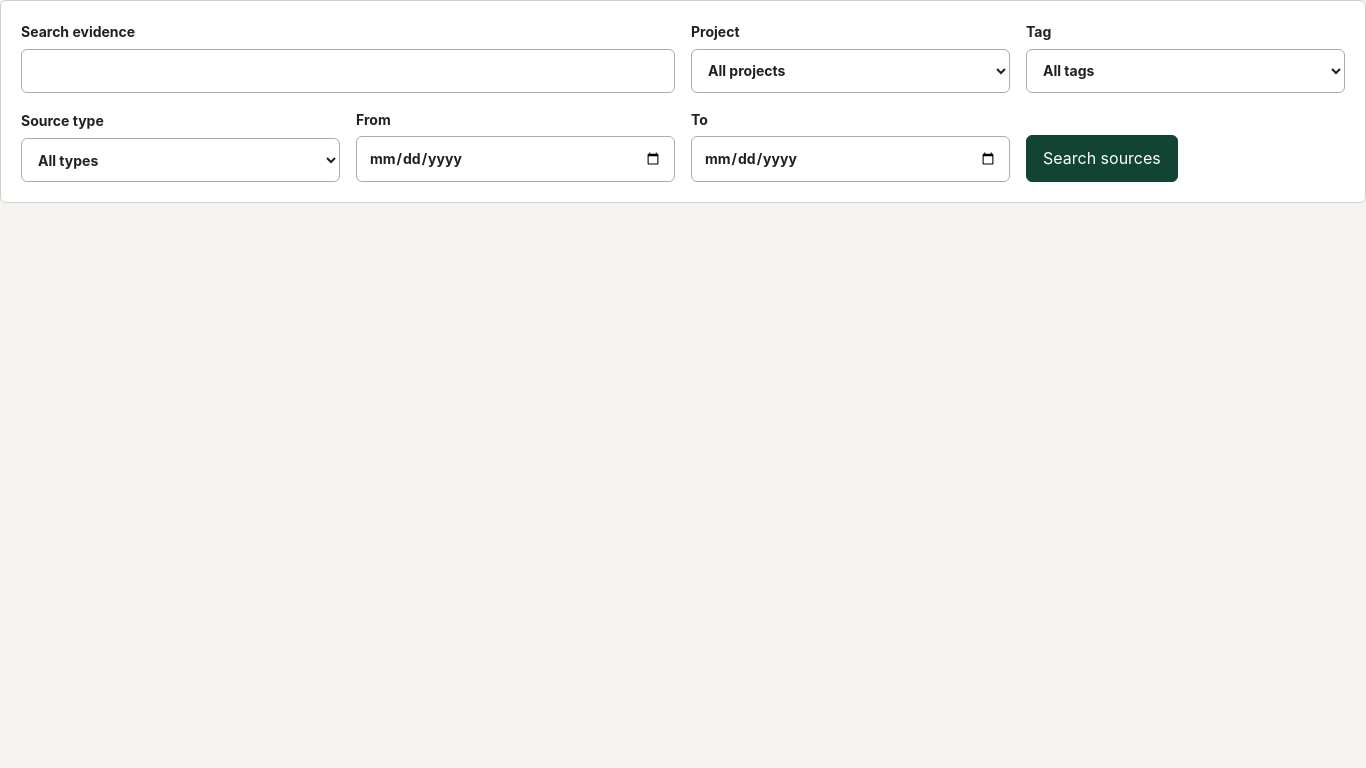
Test: SearchView › shows lexical fallback and stable evidence links
The image size is (1366, 768).
Type "matching" into the search field labelled "Search evidence" at (348, 71), box [21,49,675,93]
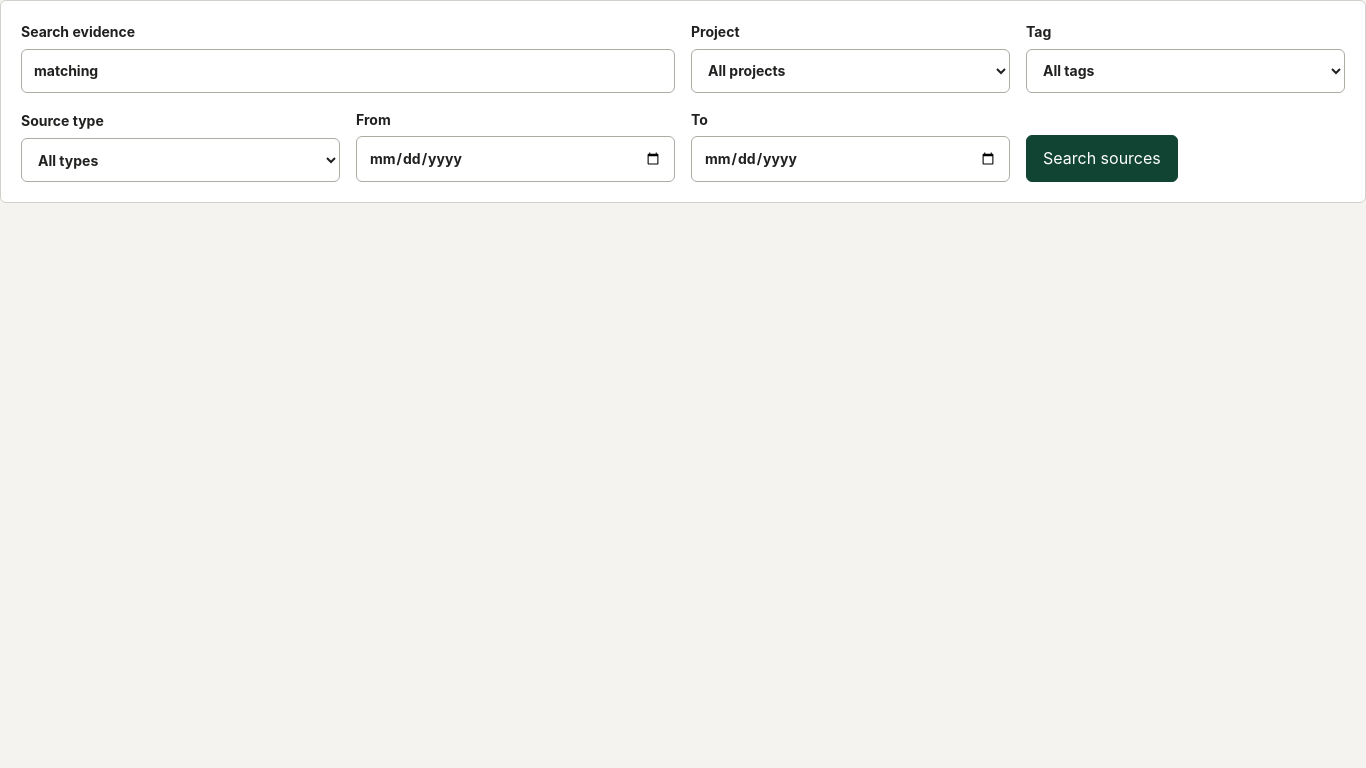
Click the button "Search sources" at (1102, 159), box [1026,135,1178,182]
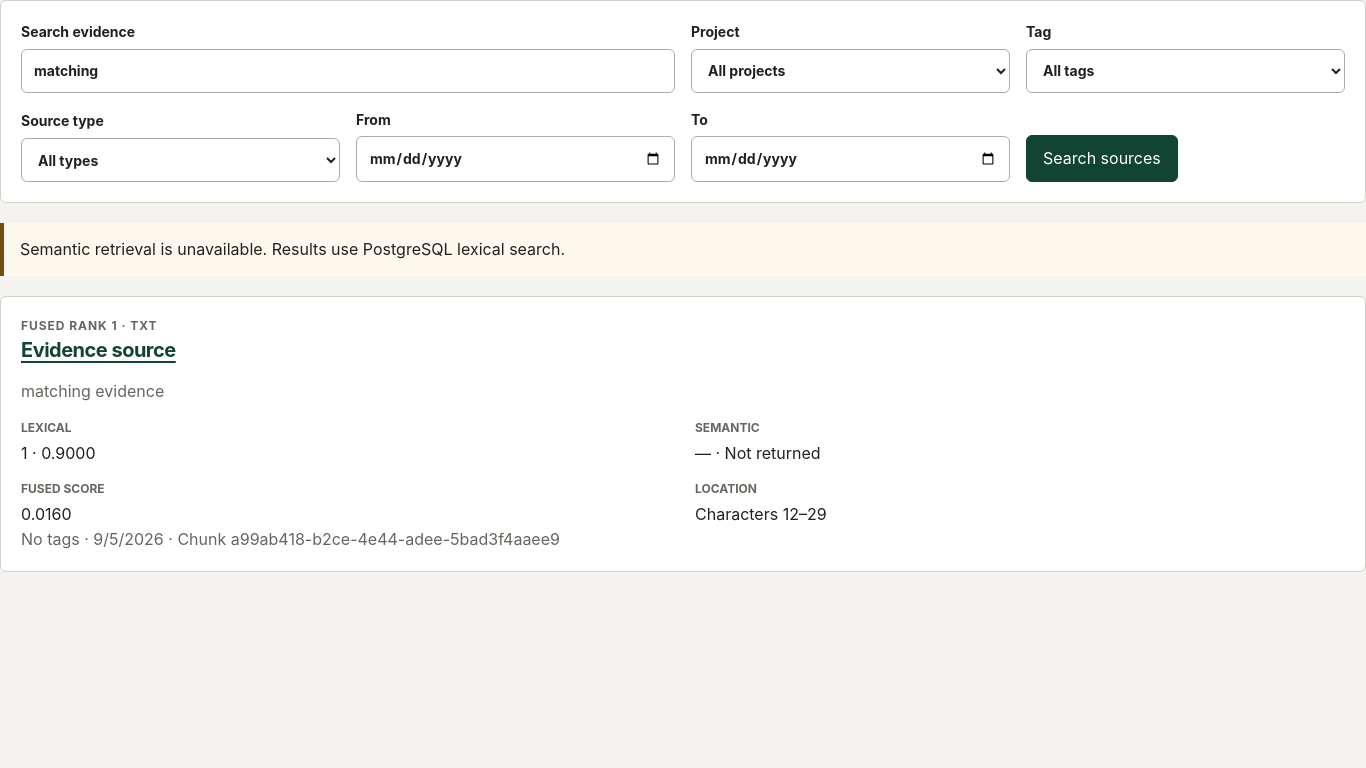
Now the text "Semantic retrieval is unavailable. Results use PostgreSQL lexical search." is shown, box [0,223,1365,276]
Now the text "matching evidence" is shown, box [21,381,164,401]
